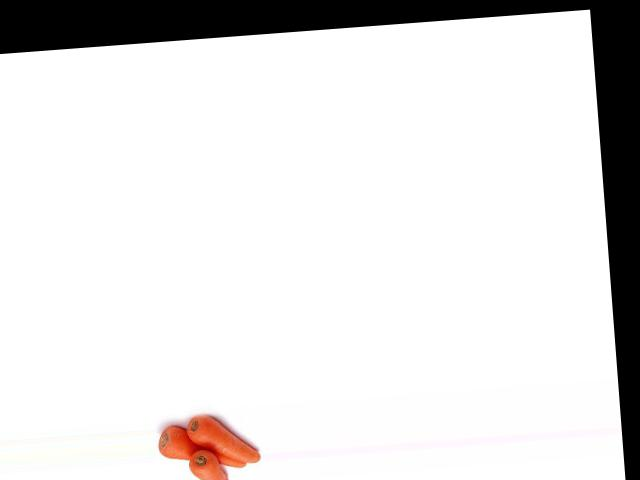carrot: (155, 418, 256, 474)
